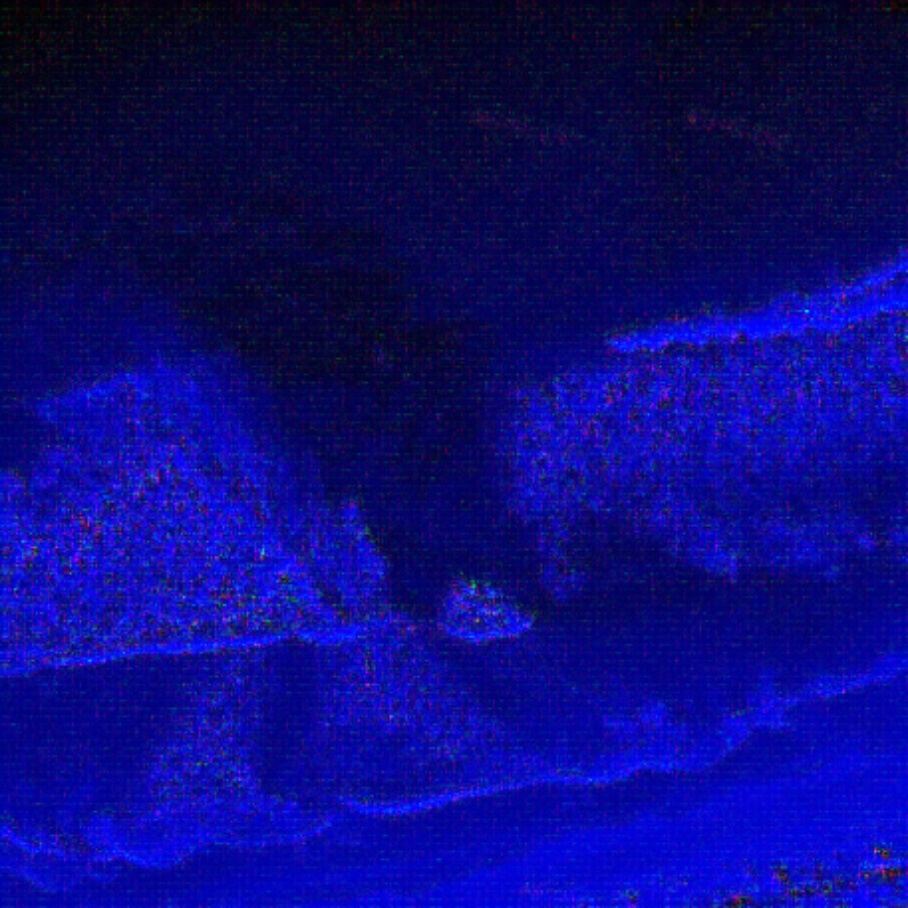rip_current: (192, 234, 655, 694)
